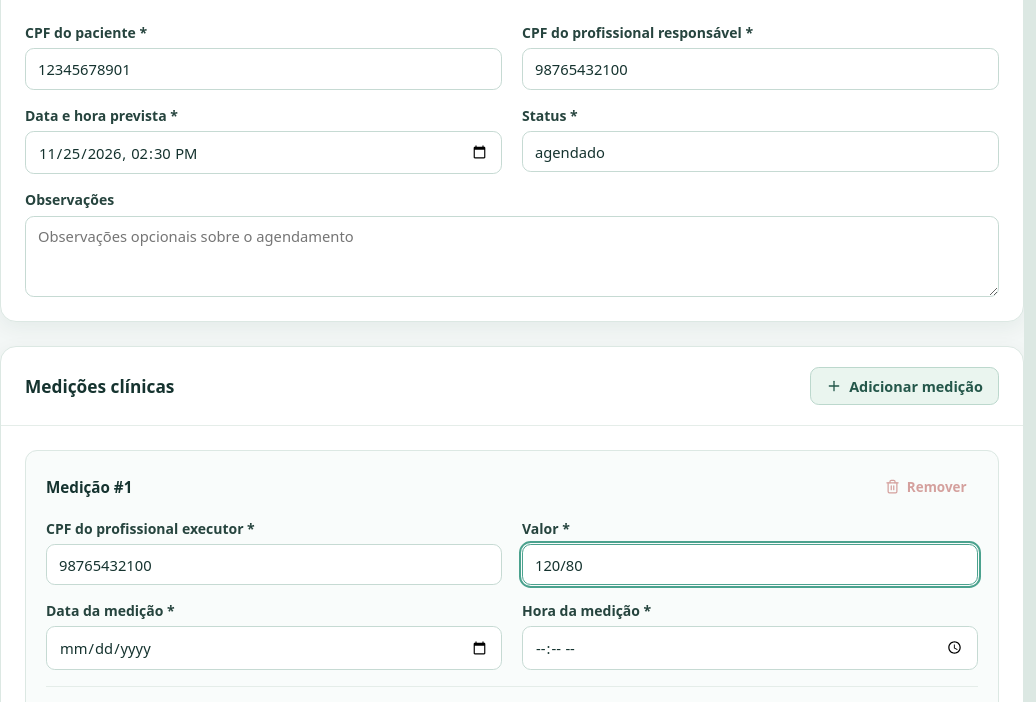
RealizarAgendamento › com 2 medições e só a primeira preenchida, exibe erro apenas na segunda
This screenshot has width=1036, height=702.
Earlier steps of the test are not shown.
Type "2026-11-25" into the date field labelled "Data da medição *" at (274, 648), box [46,626,502,670]
Type "14:45" into the time field labelled "Hora da medição *" at (750, 648), box [522,626,978,670]
(page scrolled)
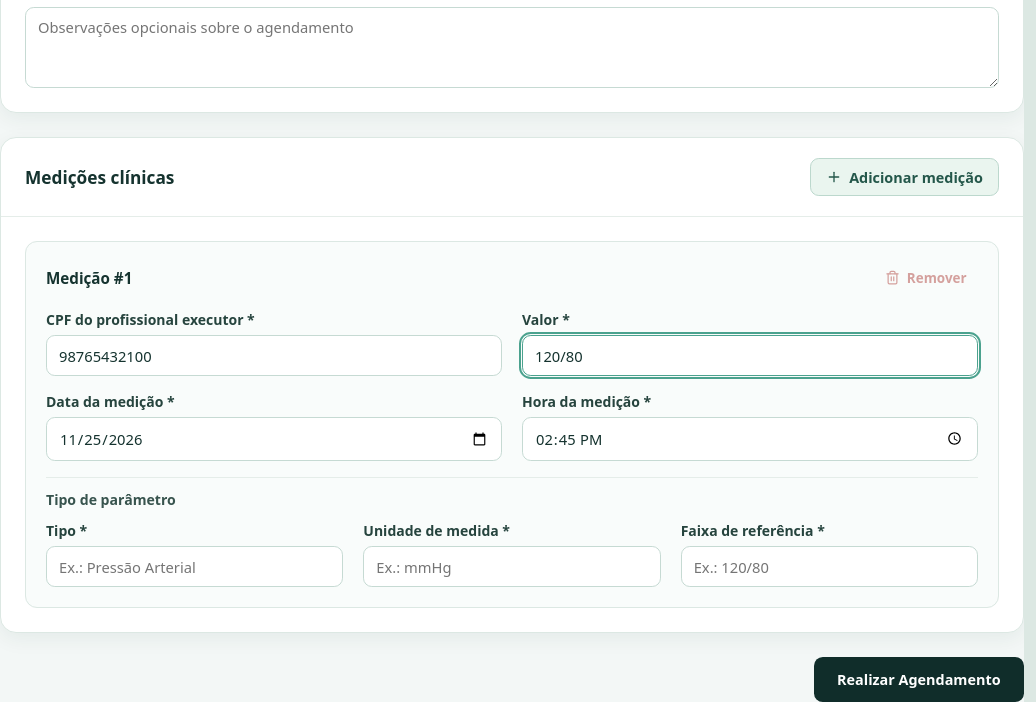
Type "Pressão Arterial" into the field labelled "Tipo *" at (195, 567), box [46,546,343,587]
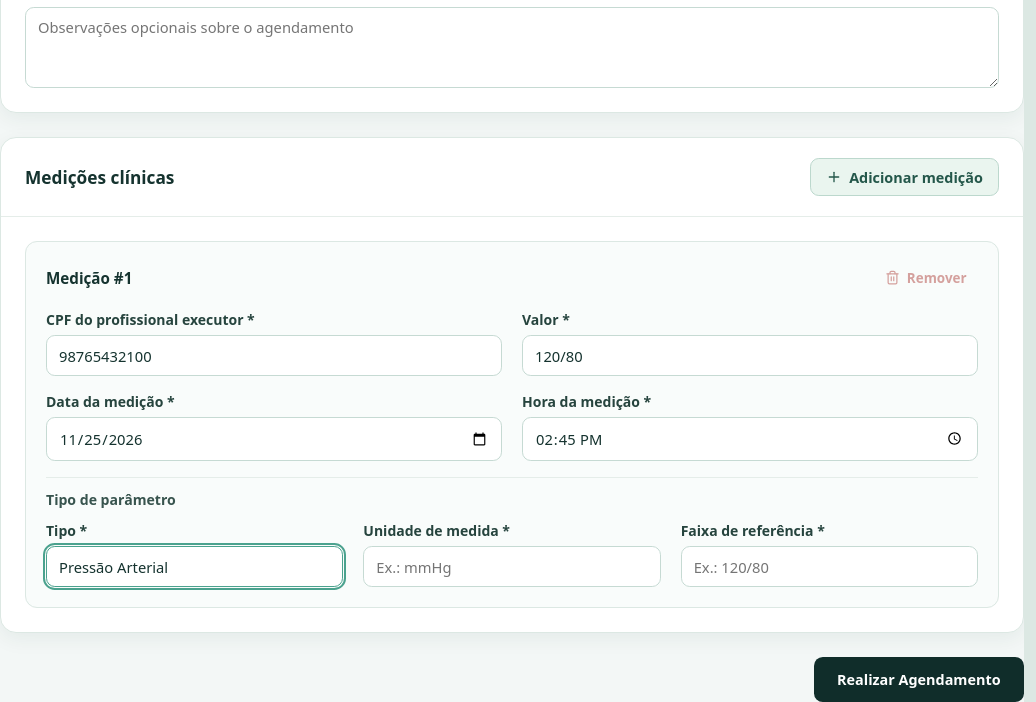
Type "mmHg" into the field labelled "Unidade de medida *" at (512, 567), box [363,546,661,587]
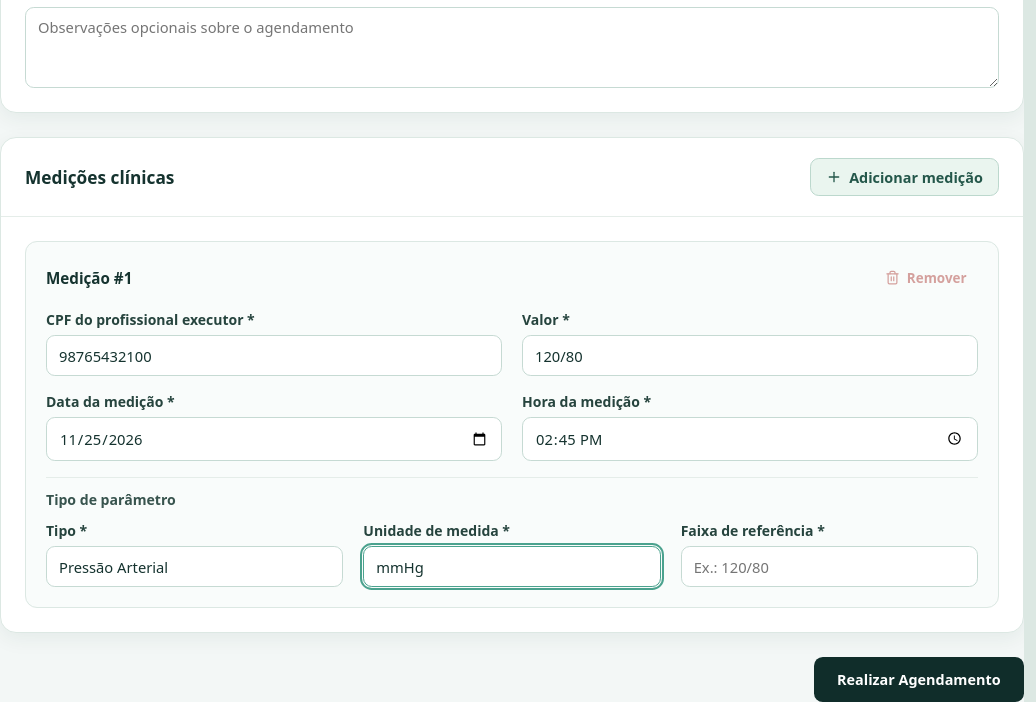
Type "120/80" into the field labelled "Faixa de referência *" at (829, 567), box [681,546,978,587]
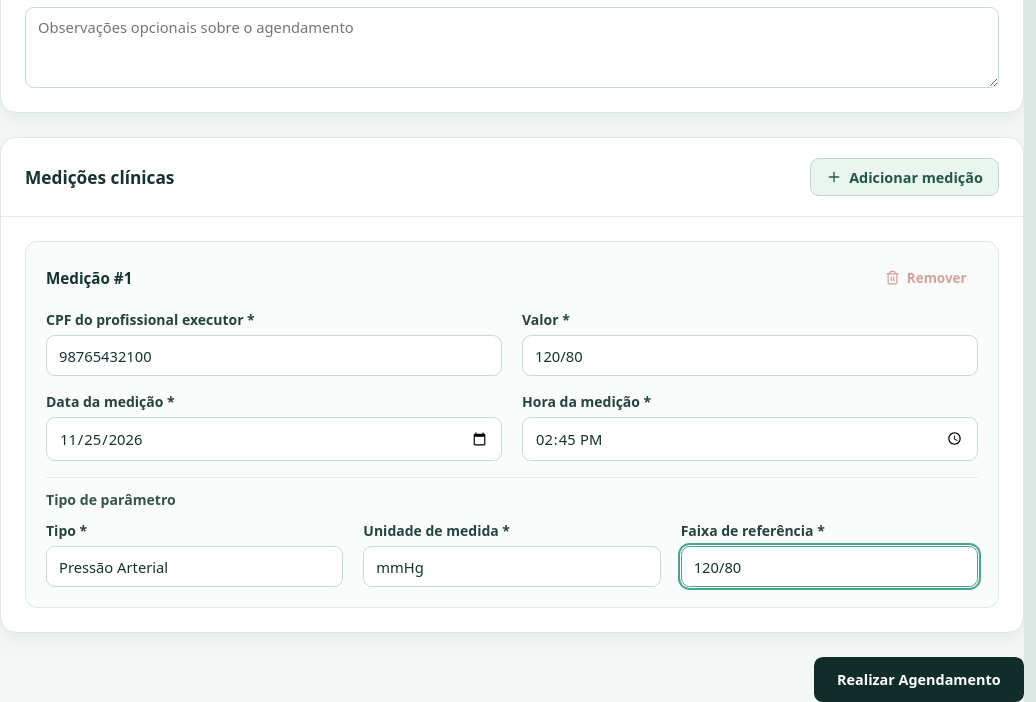
Click the button "Adicionar medição" at (904, 177), box [810,158,999,196]
(page scrolled)
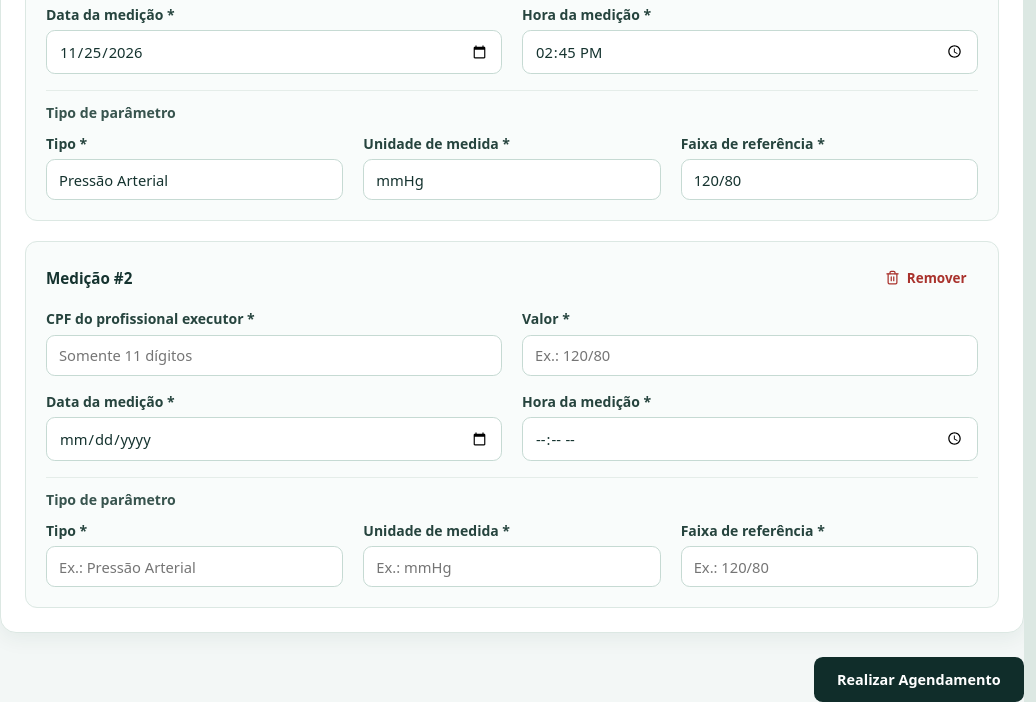
Click the button "Realizar Agendamento" at (919, 680), box [814,657,1024,701]
(page scrolled)
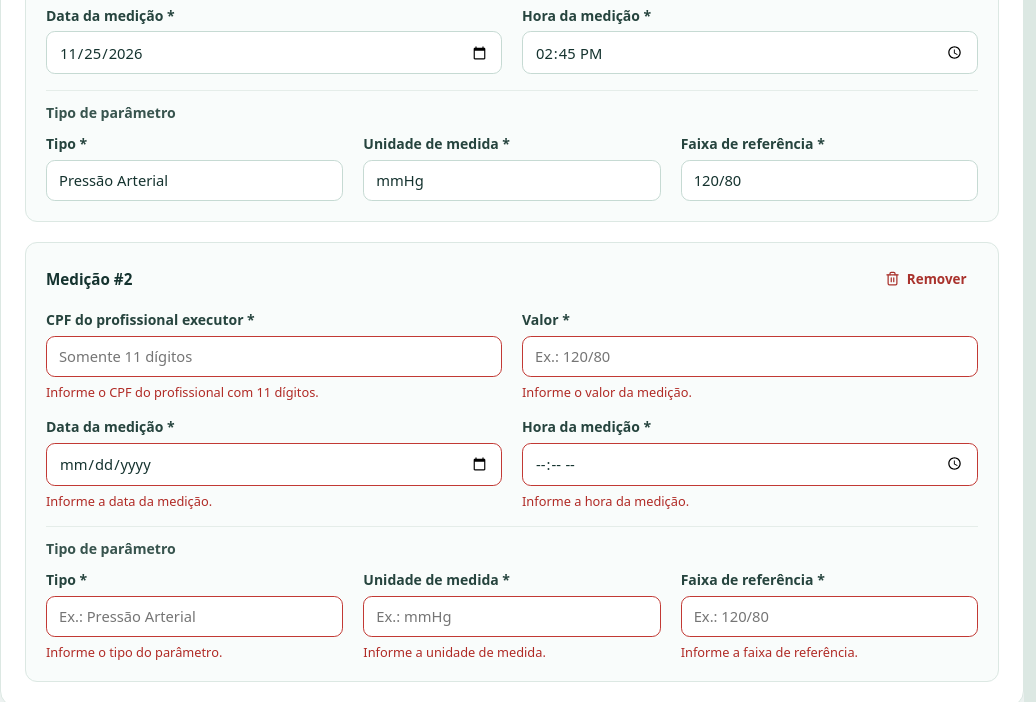
Now the text "Informe o valor da medição." is shown, box [522,383,692,401]
